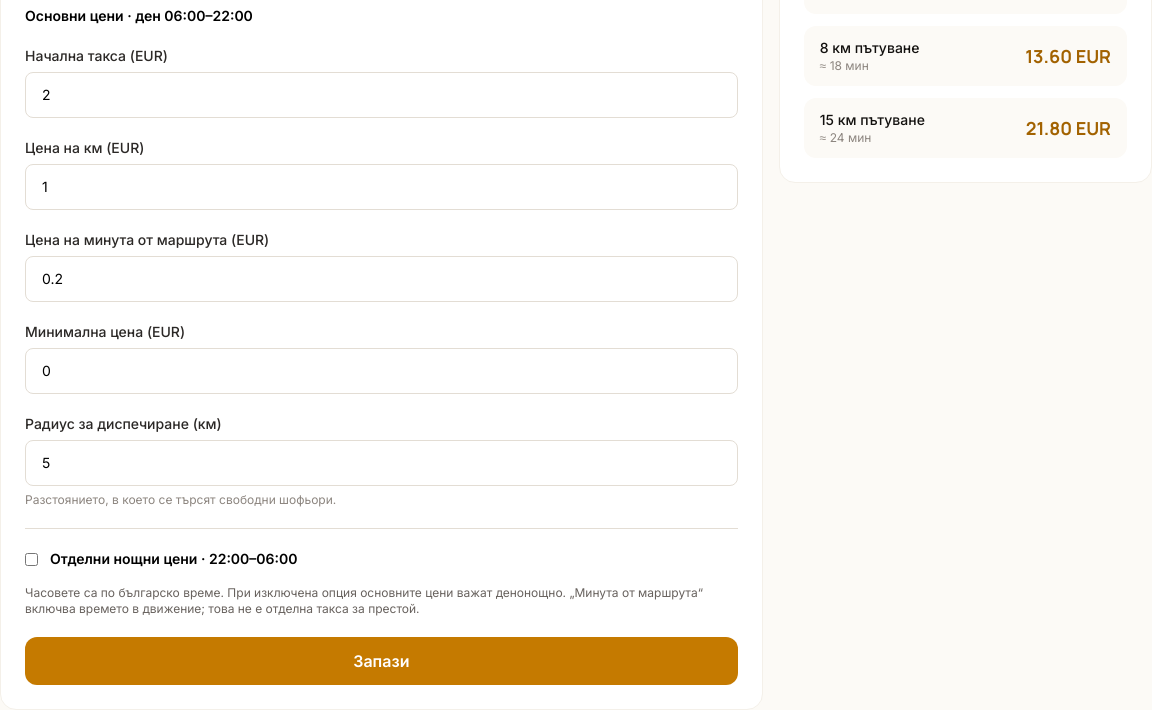
Test: does not report a zero-row pricing update as saved
The image size is (1152, 710).
(page scrolled)
What coordinates should you click on to do the following:
click the button "Запази"
I would click on:
 (381, 661)
Its box is [25,637,738,685].
(page scrolled)
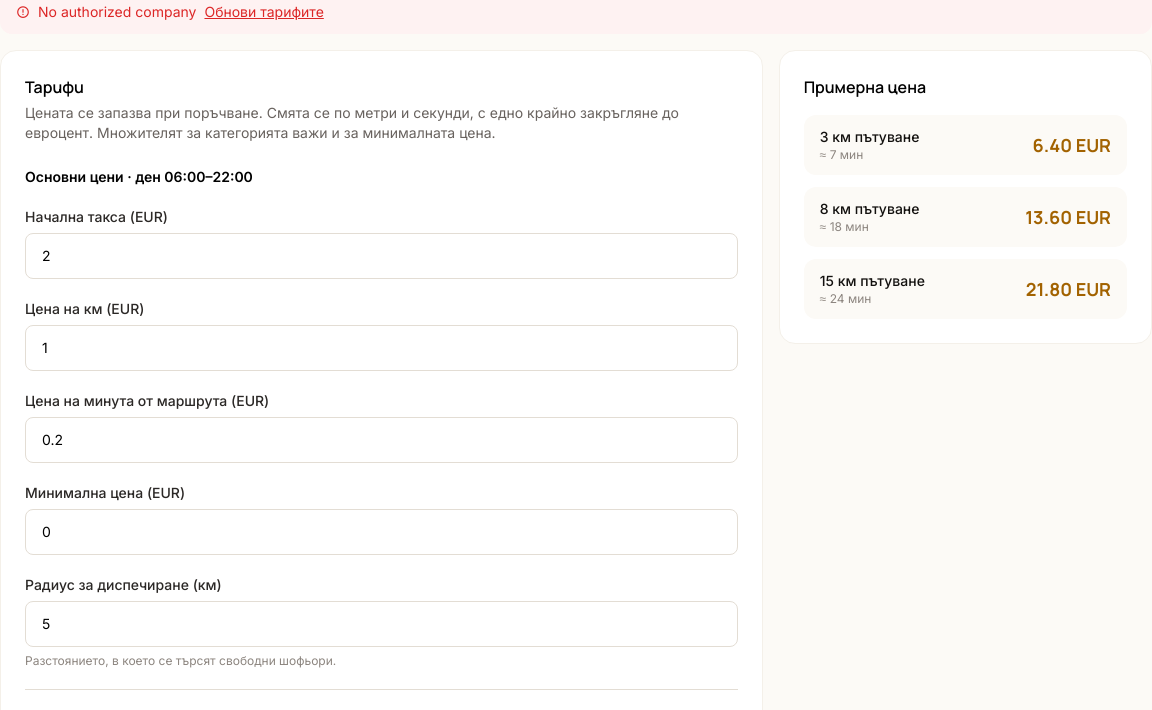
Now the text "No authorized company" is shown, box [38,3,196,20]
